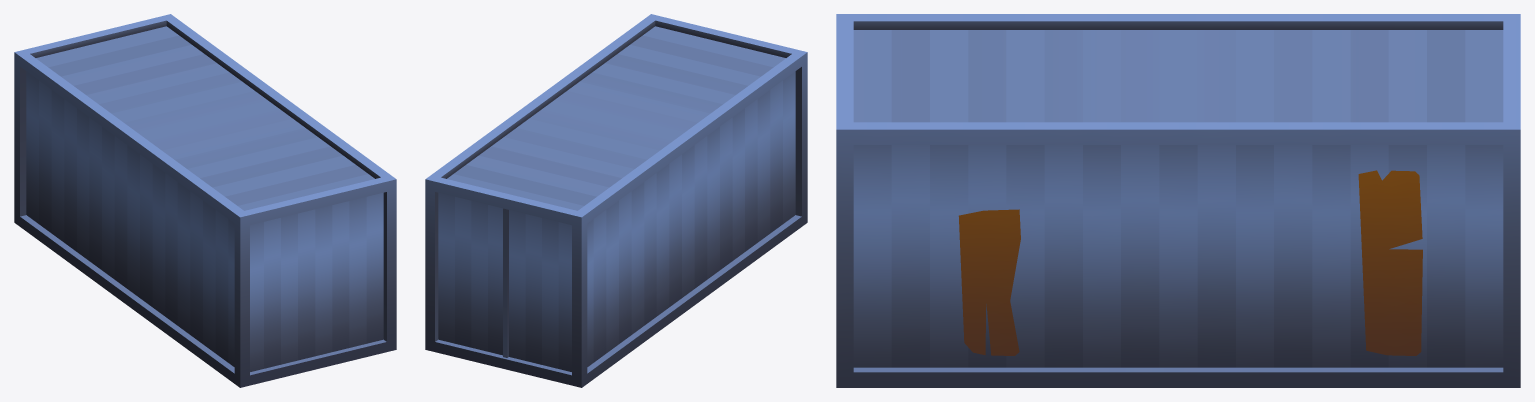
Rendered from Container_1D.fbx.
The picture shows the model from 3 angles, left to right: view 1: azimuth 30°, elevation 25°; view 2: azimuth 150°, elevation 25°; view 3: azimuth 270°, elevation 25°; orthographic projection. The views are drawn at different scales.
Visible parts, largest first — view 1: Container_1D_D; view 2: Container_1D_D; view 3: Container_1D_D.
Part boxes in pixels (<box>): Container_1D_D: <box>14,14,396,387</box>; Container_1D_D: <box>425,14,807,387</box>; Container_1D_D: <box>836,14,1520,387</box>.
Bounding box in the file's own units: 2.4 × 2.5 × 6.
